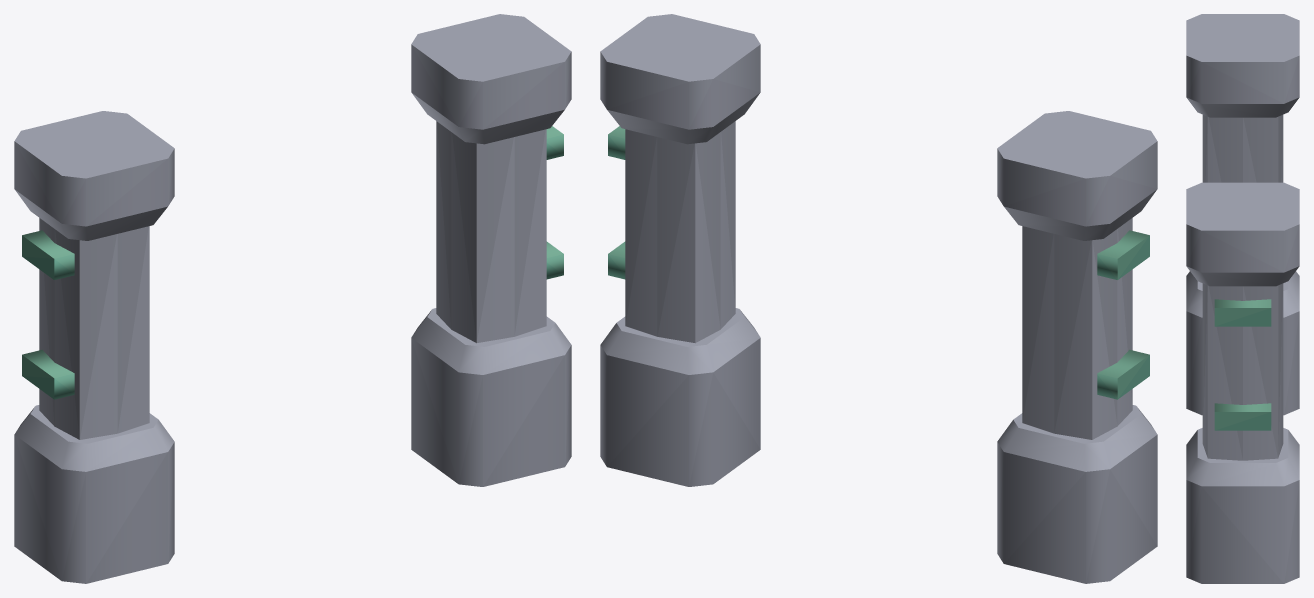
Rendered from kgy_iron-fence-border-gate.fbx.
The picture shows the model from 3 angles, left to right: view 1: azimuth 30°, elevation 25°; view 2: azimuth 150°, elevation 25°; view 3: azimuth 270°, elevation 25°; orthographic projection. The views are drawn at different scales.
Visible parts, largest first — view 1: iron-fence-border-gate; view 2: iron-fence-border-gate; view 3: iron-fence-border-gate.
Boxes of the visible parts, box(x1,y1,x2,y2) form: iron-fence-border-gate: box(14, 14, 571, 583); iron-fence-border-gate: box(600, 14, 1157, 583); iron-fence-border-gate: box(1186, 14, 1299, 583).
Bounding box in the file's own units: 100 × 76 × 22.15.
